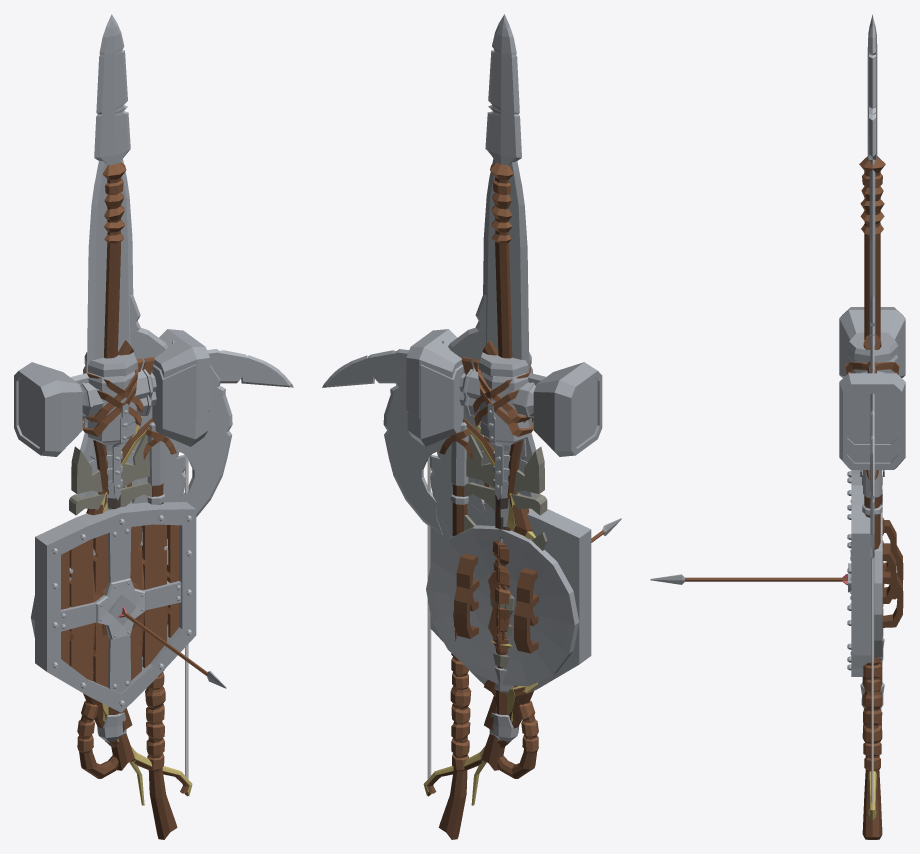
The model's file is weapons.glb.
The picture shows the model from 3 angles, left to right: view 1: azimuth 30°, elevation 25°; view 2: azimuth 150°, elevation 25°; view 3: azimuth 270°, elevation 25°; orthographic projection. The views are drawn at different scales.
Visible parts, largest first — view 1: Shield_Heater, Hammer_Double, Axe_Double, Spear, Sword_Big, Hammer_Small, Scythe, Claymore, Axe, Bow_Wooden, Bow_Golden, Axe_Small (+2 smaller); view 2: Shield_Round, Hammer_Double, Axe_Double, Spear, Hammer_Small, Shield_Heater, Sword_Big, Scythe, Bow_Golden, Bow_Wooden, Claymore, Axe (+3 smaller); view 3: Hammer_Double, Shield_Heater, Axe_Double, Spear, Shield_Round, Hammer_Small, Sword_Big, Arrow, Bow_Golden, Scythe.
Boxes of the visible parts, x1=… form: Shield_Heater: x1=35, y1=502, x2=196, y2=712; Hammer_Double: x1=14, y1=329, x2=209, y2=742; Axe_Double: x1=80, y1=341, x2=232, y2=839; Spear: x1=94, y1=14, x2=134, y2=770; Sword_Big: x1=69, y1=159, x2=151, y2=515; Hammer_Small: x1=82, y1=364, x2=208, y2=488; Scythe: x1=69, y1=340, x2=293, y2=778; Claymore: x1=71, y1=434, x2=149, y2=508; Axe: x1=106, y1=327, x2=179, y2=732; Bow_Wooden: x1=83, y1=418, x2=189, y2=796; Bow_Golden: x1=101, y1=416, x2=192, y2=805; Axe_Small: x1=106, y1=455, x2=186, y2=510; Shield_Round: x1=426, y1=525, x2=579, y2=686; Hammer_Double: x1=406, y1=329, x2=602, y2=742; Axe_Double: x1=383, y1=341, x2=536, y2=839; Spear: x1=481, y1=14, x2=521, y2=770; Hammer_Small: x1=407, y1=364, x2=533, y2=693; Shield_Heater: x1=430, y1=503, x2=591, y2=691; Sword_Big: x1=464, y1=158, x2=547, y2=635; Scythe: x1=322, y1=340, x2=546, y2=778; Bow_Golden: x1=423, y1=416, x2=537, y2=805; Bow_Wooden: x1=427, y1=418, x2=533, y2=796; Claymore: x1=466, y1=434, x2=544, y2=615; Axe: x1=436, y1=327, x2=509, y2=732; Hammer_Double: x1=839, y1=307, x2=905, y2=709; Shield_Heater: x1=847, y1=470, x2=896, y2=676; Axe_Double: x1=862, y1=371, x2=882, y2=839; Spear: x1=859, y1=14, x2=885, y2=741; Shield_Round: x1=874, y1=502, x2=903, y2=661; Hammer_Small: x1=839, y1=354, x2=905, y2=659; Sword_Big: x1=869, y1=159, x2=875, y2=345; Arrow: x1=650, y1=574, x2=847, y2=584; Bow_Golden: x1=868, y1=490, x2=882, y2=819; Scythe: x1=863, y1=335, x2=883, y2=607.
Bounding box in the file's own units: 3.55 × 10.74 × 3.09.
